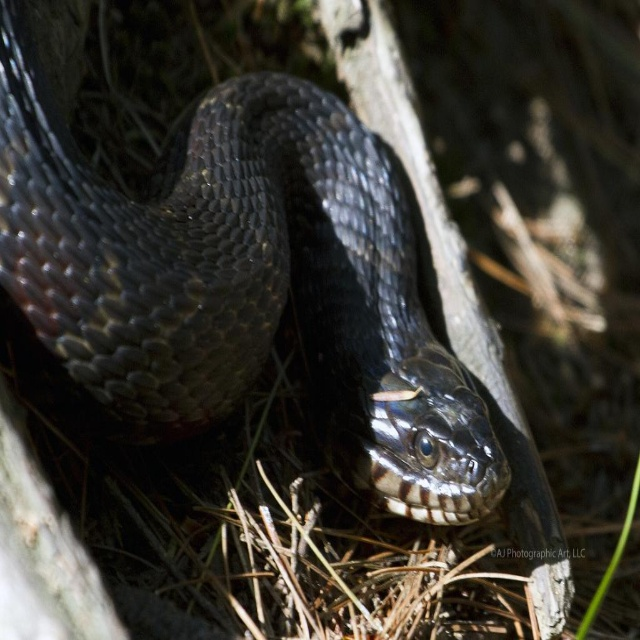Snake: (0, 0, 512, 526)
